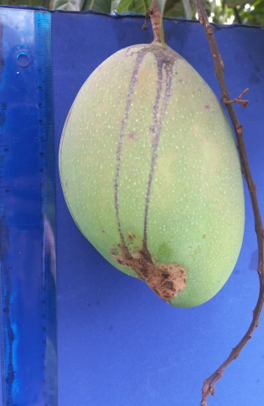Mango-Antracnosis: (59, 42, 244, 306)
Mango-area-afectada: (113, 43, 186, 301)
Mango-sano: (148, 58, 244, 306)
